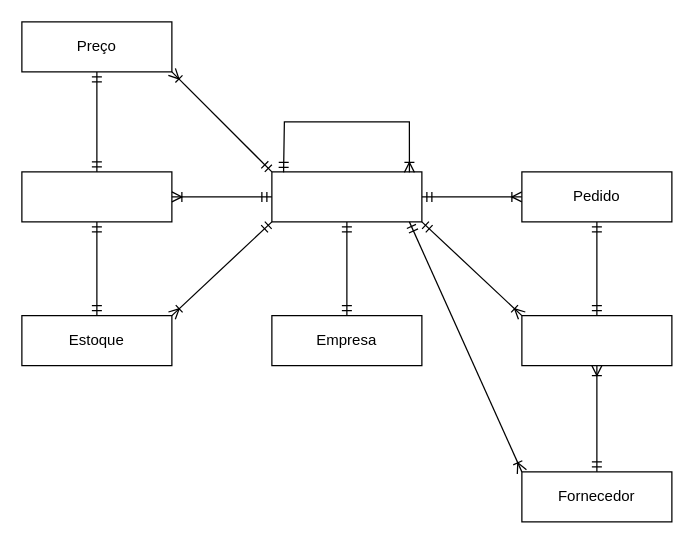
This 694x544 diagram has some shape labels left out. Here are the shapes that lost their labels. From the top down, the centre of each, then its label:
pixel 96 196: Produto
pixel 346 196: Usuário
pixel 596 340: Financeiro
